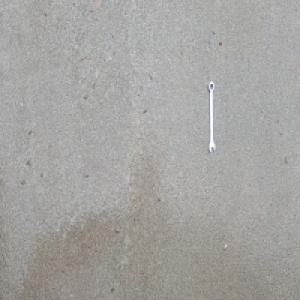Wrench: (207, 80, 216, 153)
